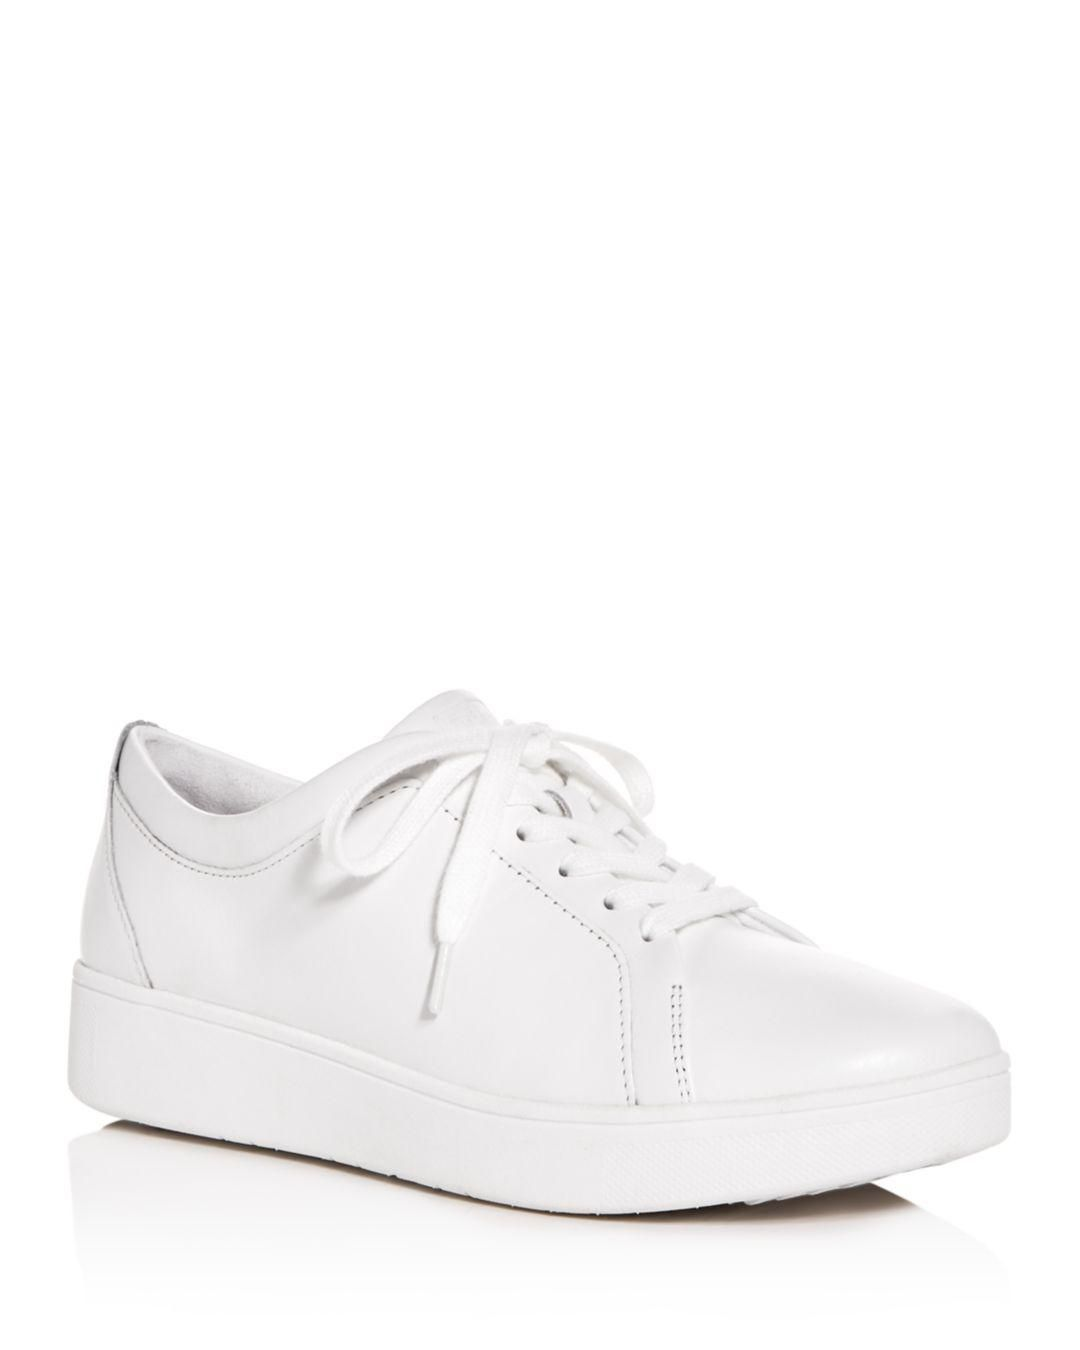sneaker: (53, 665, 1026, 1234)
